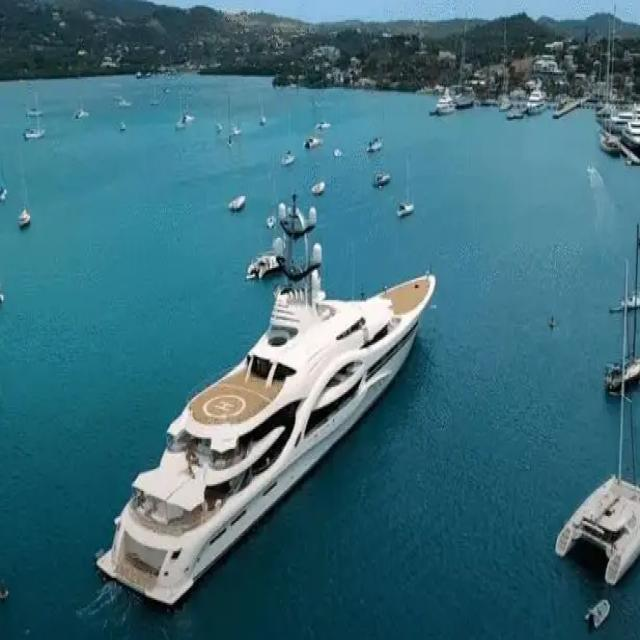passenger ship: (103, 275, 439, 606)
